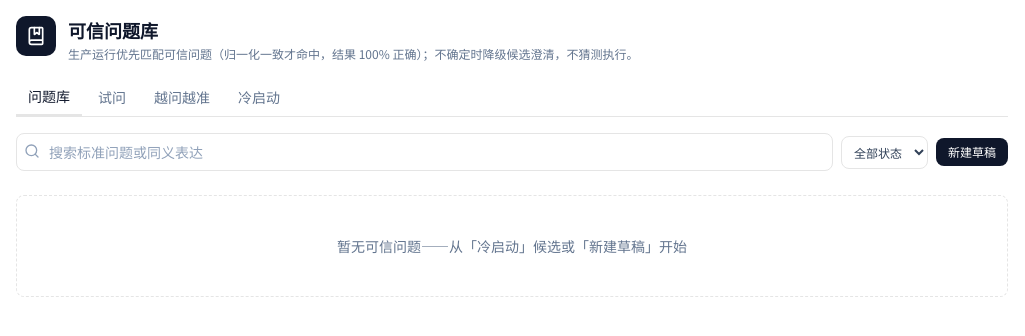
Scenario: QuestionLibraryPage 可信问题库页 › 越问越准：澄清事件选择目标后一键采纳为同义
The image size is (1025, 336).
Click the button "越问越准": (182, 97) [142, 78, 222, 116]
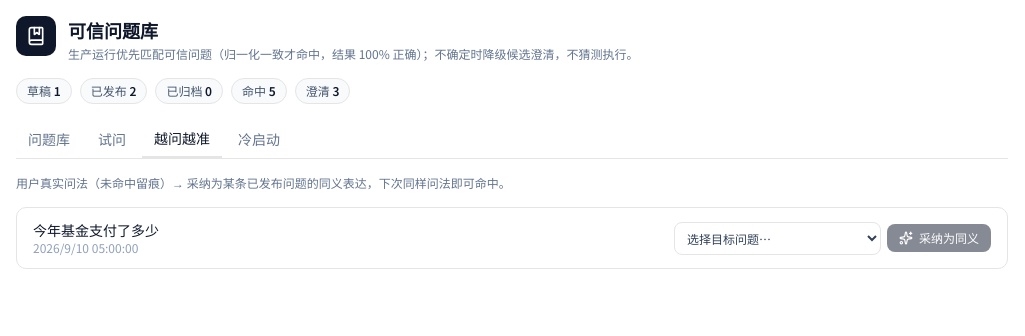
Check: the list with test id "qlib-loop-list" is shown, box [16, 207, 1008, 269]
Select "本年度医保基金支付总额是多少" in the dropdown with test id "qlib-loop-target-qme_1": (778, 238) [674, 222, 881, 254]
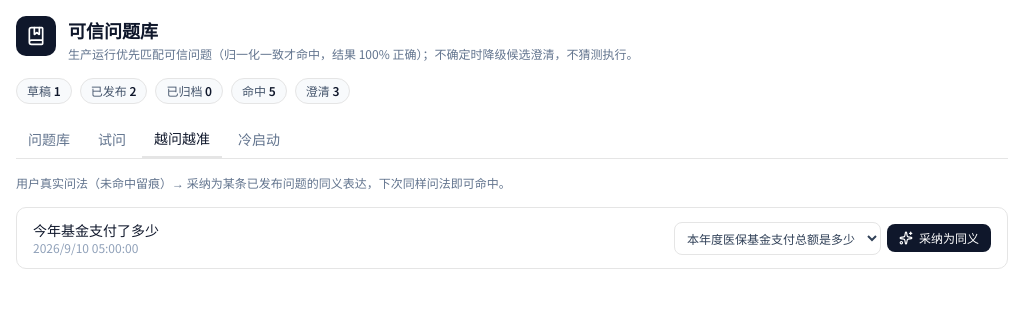
Click the button with test id "qlib-loop-adopt-qme_1": (939, 238) [887, 224, 991, 252]
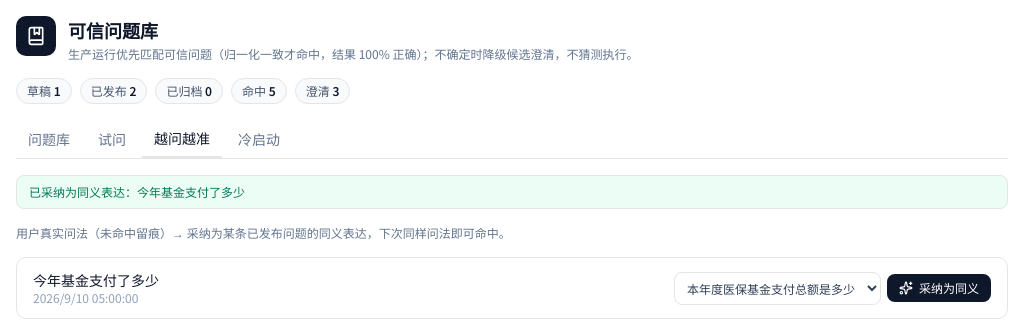
Check: the text with test id "qlib-note" shows "已采纳", box [16, 175, 1008, 209]
